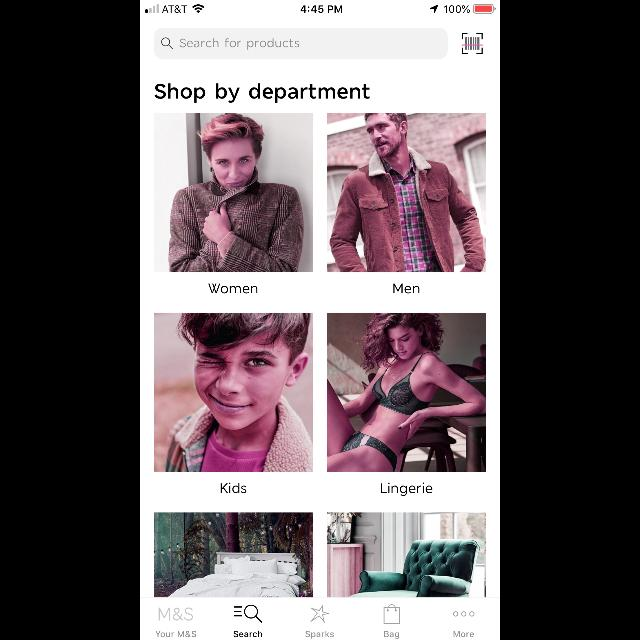icon: (234, 605, 262, 623), (310, 604, 330, 624), (384, 604, 400, 624), (162, 38, 174, 50), (453, 612, 475, 616)
image: (154, 313, 314, 472), (328, 313, 487, 472), (154, 114, 314, 272), (328, 114, 487, 272), (154, 513, 314, 597), (328, 513, 487, 597), (462, 34, 482, 54)
input: (154, 29, 448, 60)
text: (154, 83, 370, 103), (179, 39, 299, 50), (382, 482, 432, 496), (208, 284, 258, 294), (159, 608, 193, 620), (156, 630, 197, 638), (221, 482, 247, 493), (393, 284, 419, 294), (234, 630, 262, 638), (306, 631, 334, 639), (384, 631, 400, 639), (454, 631, 474, 637)
uppertaskbar: (140, 0, 500, 14)
